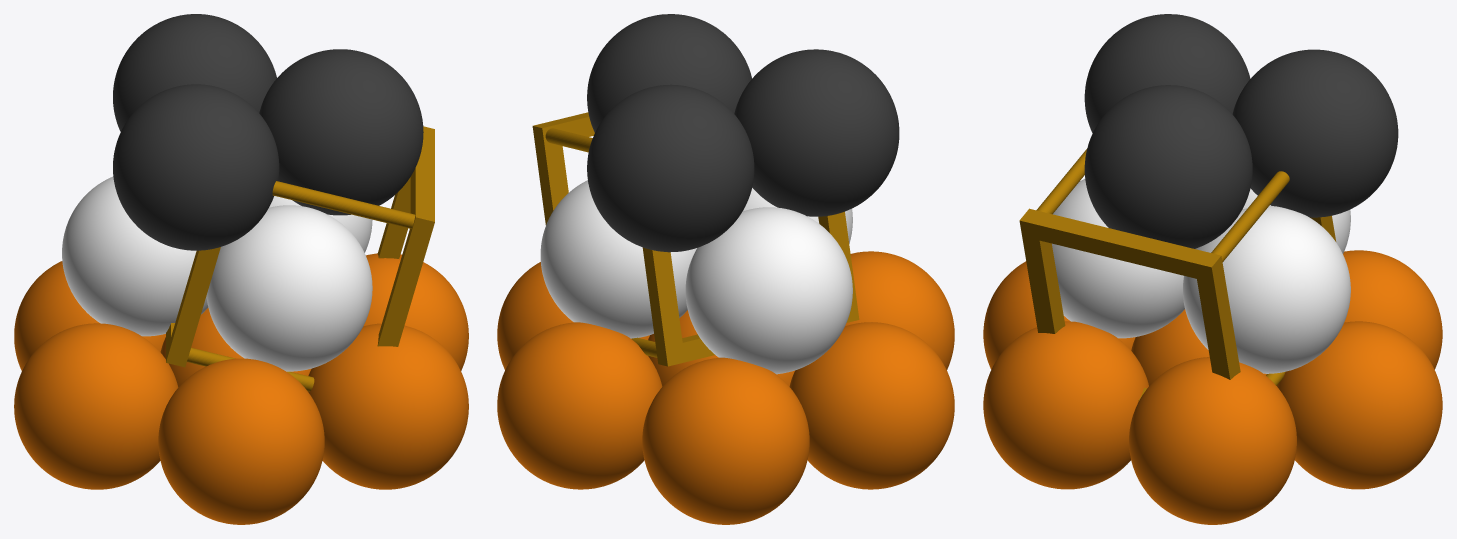
Rendered from Packing_FCP.glb.
3 views of the same model, side by side, from view 1: azimuth 30°, elevation 25°; view 2: azimuth 150°, elevation 25°; view 3: azimuth 270°, elevation 25° (orthographic).
Visible parts, largest first — view 1: Packing_Base, Packing_Top, Packing_Mid, Packing_FCP; view 2: Packing_Base, Packing_Top, Packing_Mid, Packing_FCP; view 3: Packing_Base, Packing_Top, Packing_Mid, Packing_FCP.
Part boxes in pixels (x1,y1,x2,y2): Packing_Base: [14, 253, 468, 524]; Packing_Top: [113, 14, 423, 250]; Packing_Mid: [62, 176, 372, 371]; Packing_FCP: [166, 126, 434, 391]; Packing_Base: [497, 251, 954, 524]; Packing_Top: [587, 14, 899, 252]; Packing_Mid: [540, 180, 852, 374]; Packing_FCP: [532, 112, 859, 366]; Packing_Base: [983, 250, 1442, 524]; Packing_Top: [1084, 14, 1398, 248]; Packing_Mid: [1052, 178, 1350, 373]; Packing_FCP: [1019, 148, 1336, 400].
Bounding box in the file's own units: 1.2 × 1.03 × 1.09.
